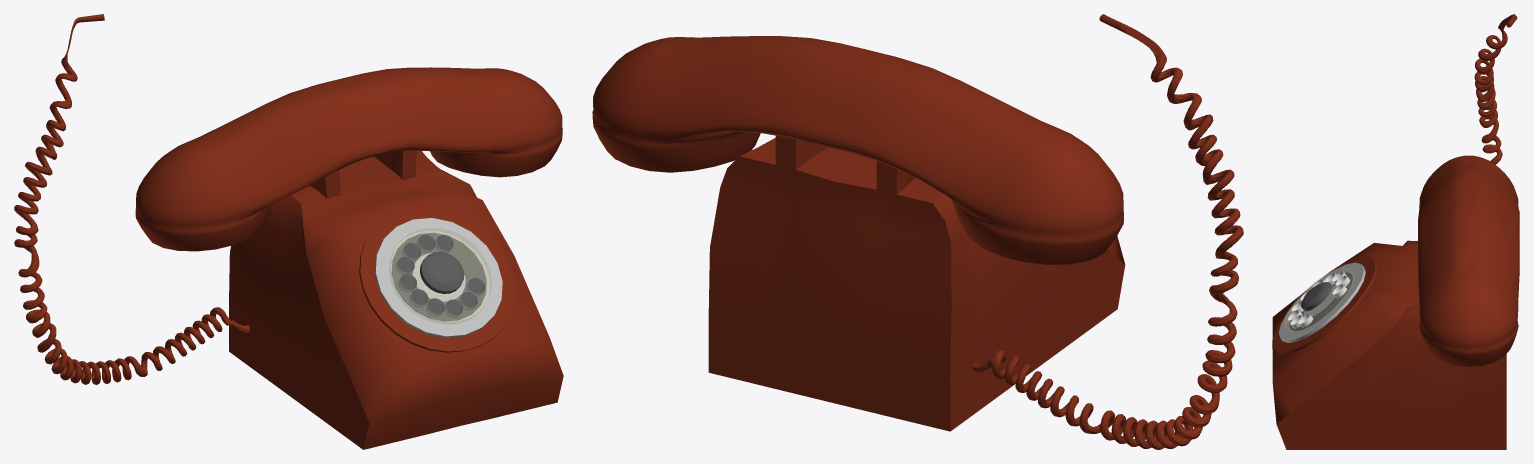
Rendered from phonefinal4.glb.
3 views of the same model, side by side, from view 1: azimuth 30°, elevation 25°; view 2: azimuth 150°, elevation 25°; view 3: azimuth 270°, elevation 25° (orthographic). The views are drawn at different scales.
Visible parts, largest first — view 1: phonebody, reciever, numbers, cord_up, Base, holes, center; view 2: phonebody, reciever, cord_up; view 3: phonebody, reciever, cord_up, numbers, holes, Base, center.
Part boxes in pixels (x1,y1,x2,y2): phonebody: (229, 150, 563, 449); reciever: (135, 67, 562, 251); numbers: (374, 218, 502, 337); cord_up: (14, 14, 250, 384); Base: (359, 207, 514, 352); holes: (389, 228, 491, 324); center: (420, 251, 464, 293); phonebody: (708, 135, 1125, 431); reciever: (592, 36, 1123, 264); cord_up: (973, 14, 1243, 449); phonebody: (1272, 240, 1506, 449); reciever: (1418, 155, 1519, 366); cord_up: (1474, 14, 1517, 164); numbers: (1278, 262, 1365, 342); holes: (1284, 267, 1353, 332); Base: (1272, 257, 1376, 354); center: (1301, 282, 1332, 311).
Size of the model in its own units: 0.1297 by 0.086 by 0.0643.
